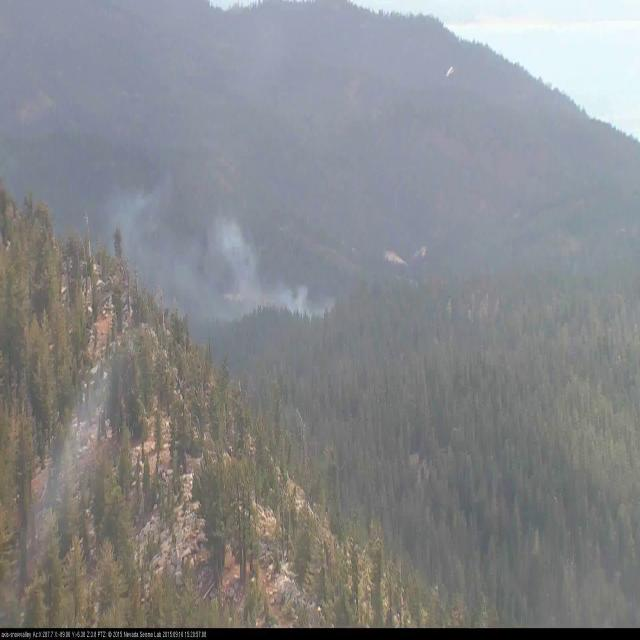smoke: (116, 162, 340, 329)
